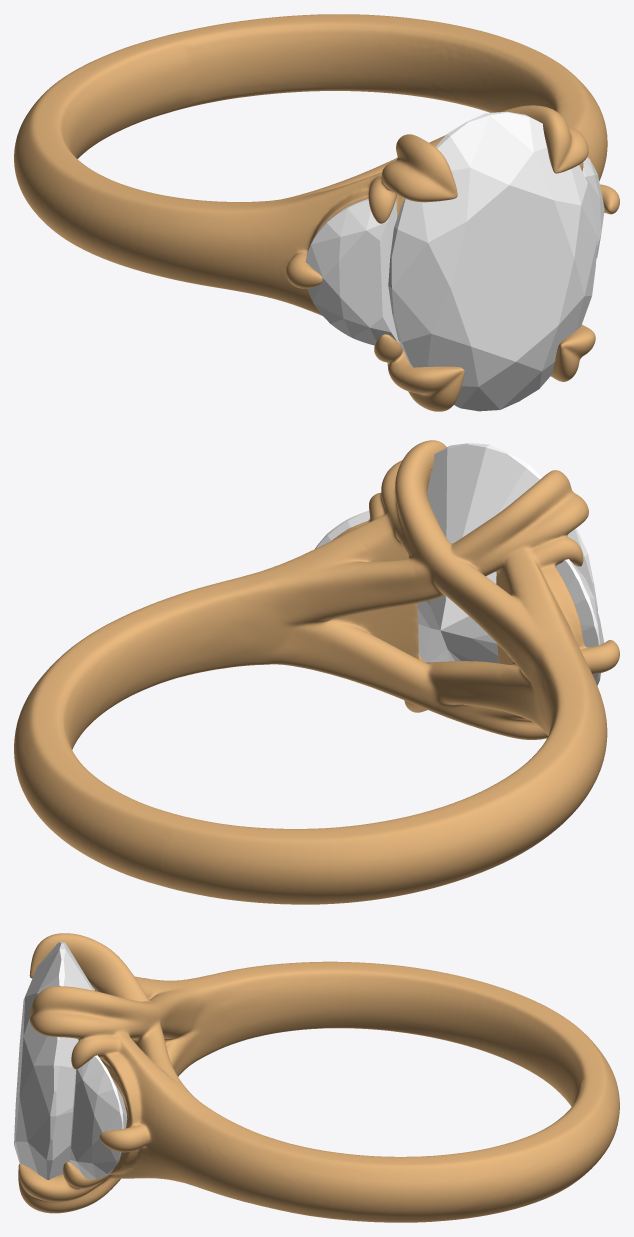
The model's file is refined_mirror_oval.glb.
3 renders of one model, top to bottom at view 1: azimuth 30°, elevation 25°; view 2: azimuth 150°, elevation 25°; view 3: azimuth 270°, elevation 25°, orthographic. The views are drawn at different scales.
Visible parts, largest first — view 1: ring, diamond; view 2: ring, diamond; view 3: ring, diamond.
Part boxes in pixels (left/top/right/bottom): ring: left=14, top=14, right=619, bottom=411; diamond: left=305, top=111, right=604, bottom=411; ring: left=14, top=440, right=619, bottom=904; diamond: left=315, top=443, right=604, bottom=685; ring: left=18, top=933, right=619, bottom=1222; diamond: left=14, top=942, right=127, bottom=1179.
Bounding box in the file's own units: 2.44 × 1.3 × 2.89.
